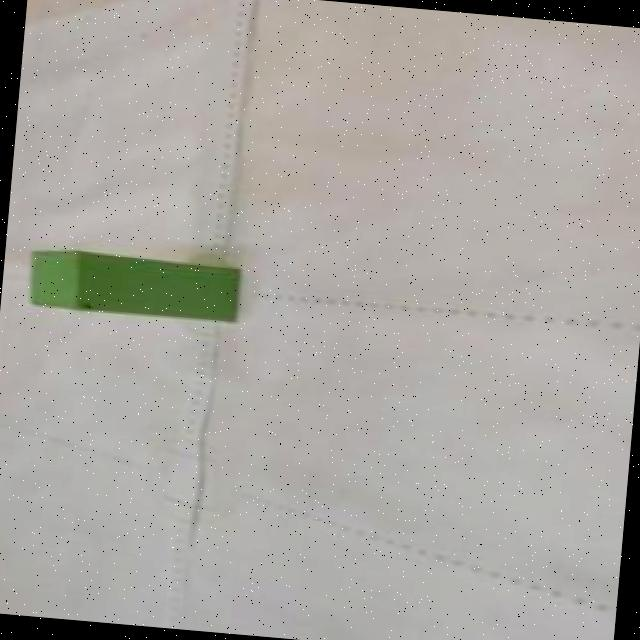greenbox: (34, 248, 242, 320)
